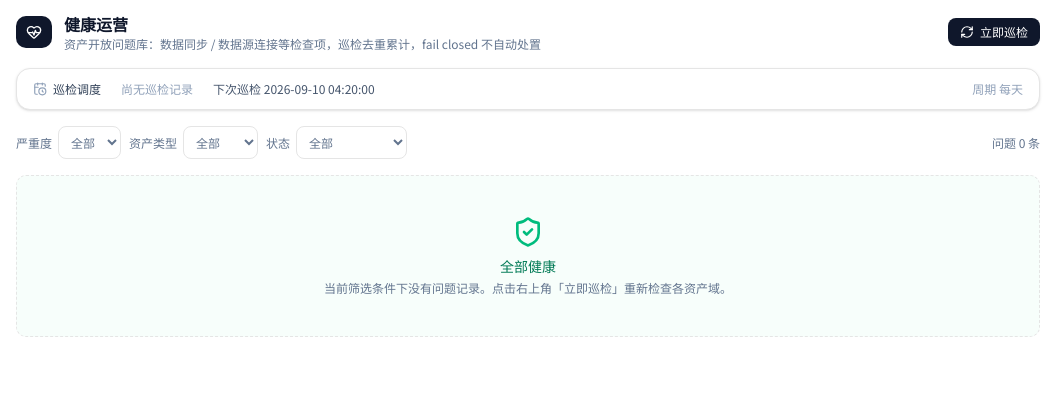
OpsPage 健康运营页 › 点击「立即巡检」触发 POST 并刷新列表
Expected: the element with test id "ops-empty" is shown, [16, 175, 1040, 337]
What coordinates should you click on to do the following:
click the button with test id "ops-inspect-button"
I would click on:
 (994, 32)
Its box is [948, 18, 1040, 46].
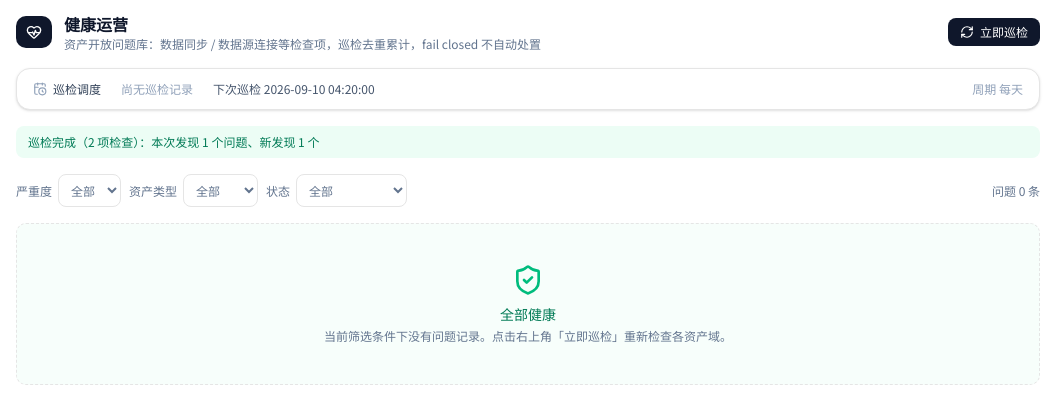
Expected: the text "巡检完成（2 项检查）：本次发现 1 个问题、新发现 1 个" is shown, [16, 126, 1040, 158]
Expected: the text with test id "ops-inspection-note" shows "本次发现 1 个问题、新发现 1 个", [28, 133, 319, 150]
